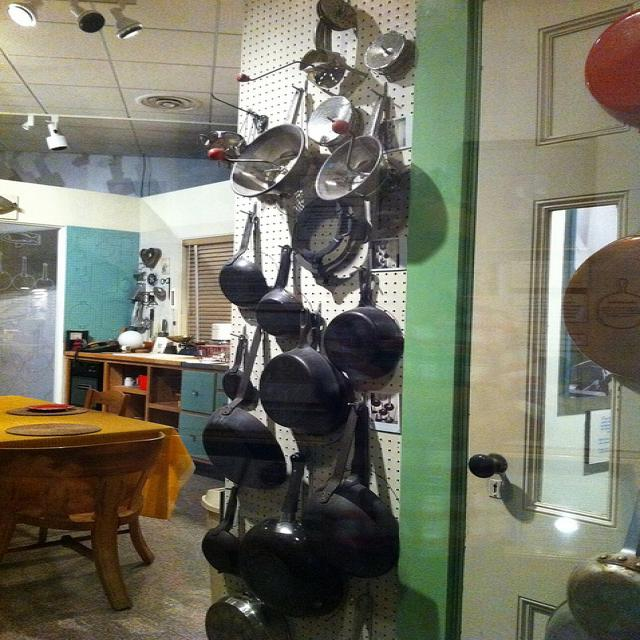chair: (0, 431, 167, 612), (83, 388, 129, 417)
dining table: (0, 395, 196, 519)
